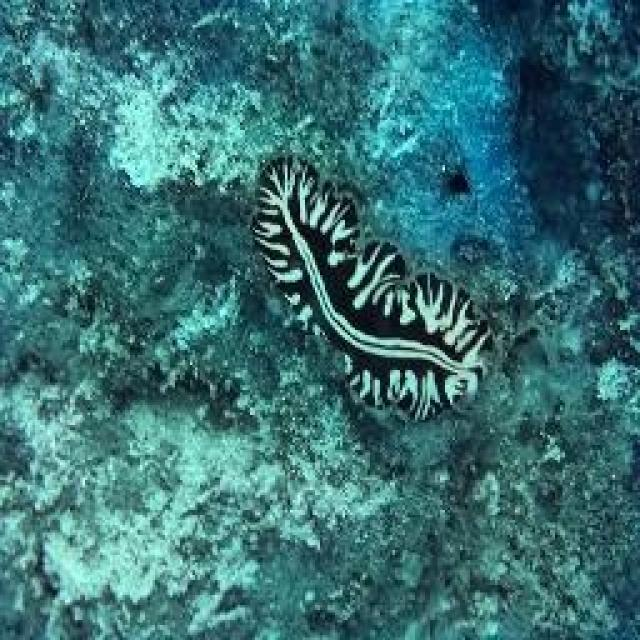reefs: (251, 155, 496, 423)
